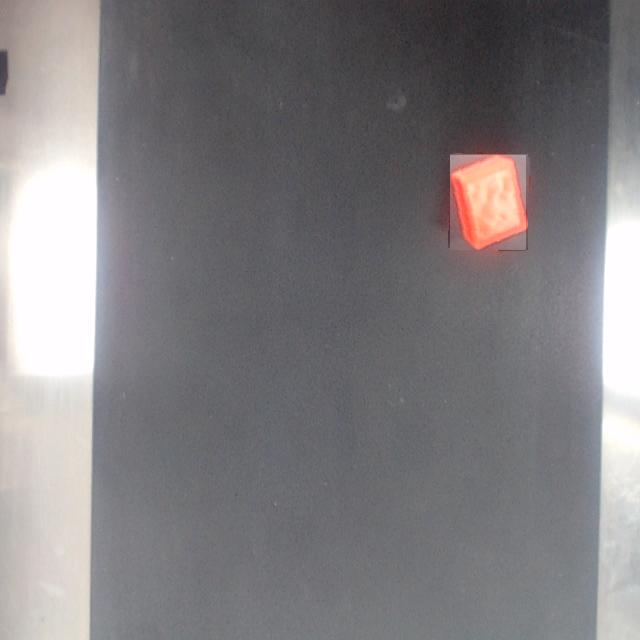Rojo: (451, 155, 526, 250)
